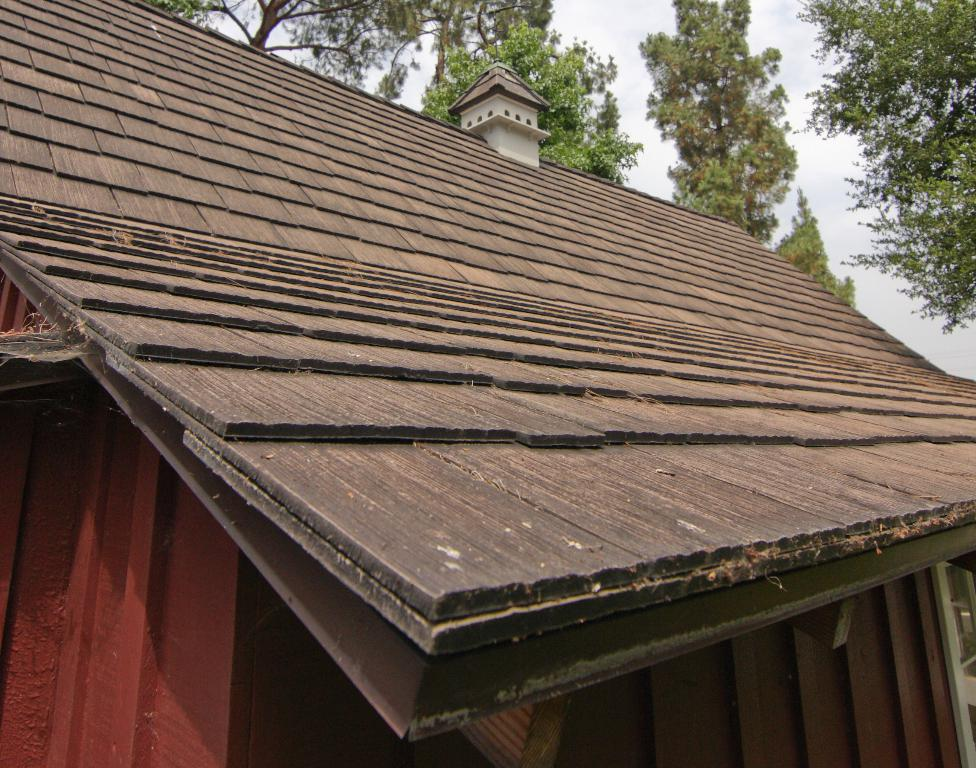Tree: (138, 0, 976, 336)
